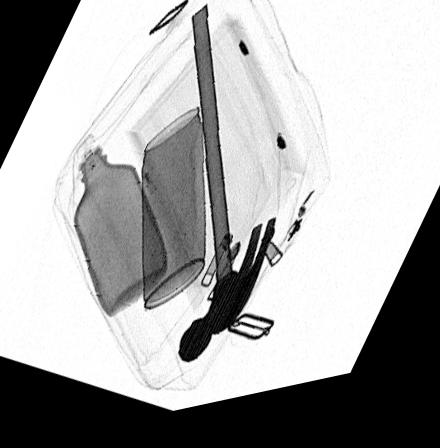Hammer: (179, 12, 278, 371)
